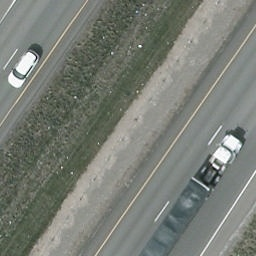car: (6, 49, 44, 89)
